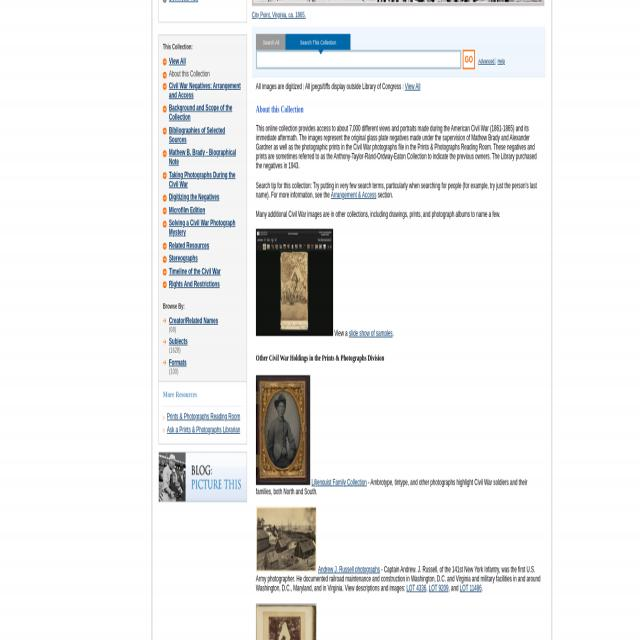button: (256, 229, 333, 335), (256, 375, 310, 485), (159, 452, 247, 502), (256, 506, 316, 572), (256, 604, 316, 640), (286, 34, 350, 51), (256, 35, 286, 50), (463, 50, 475, 69)
field: (256, 50, 462, 69)
